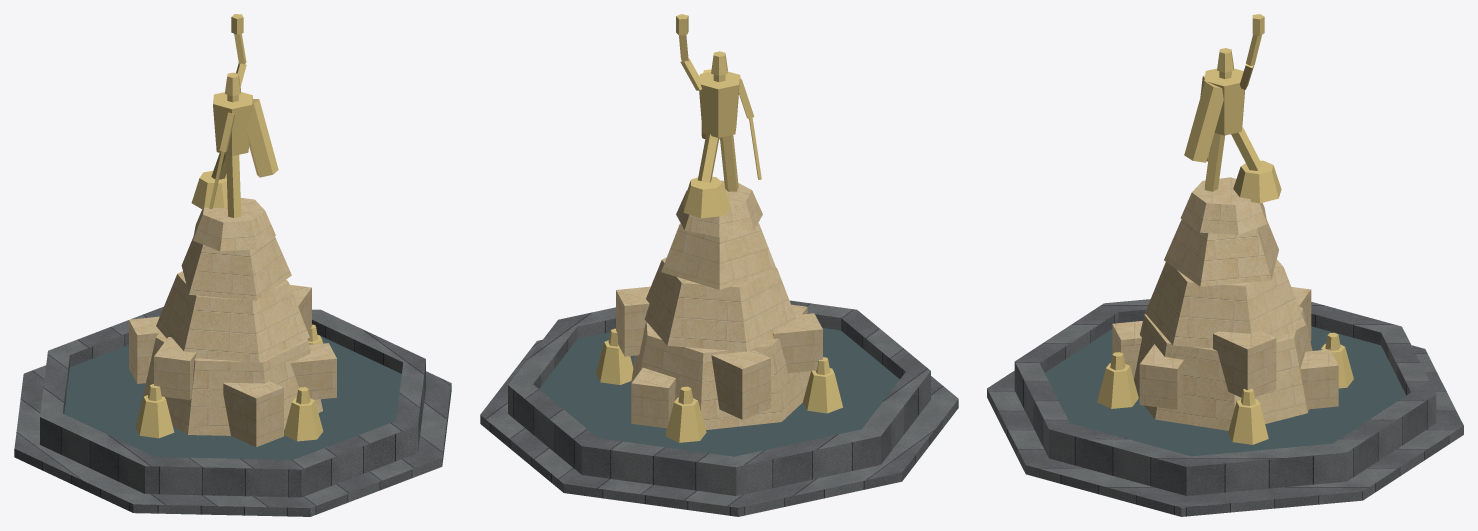
3 views of the same model, side by side, from view 1: azimuth 30°, elevation 25°; view 2: azimuth 150°, elevation 25°; view 3: azimuth 270°, elevation 25° (orthographic). The views are drawn at different scales.
Parts seen in each view (by area): view 1: landmark_900000001; view 2: landmark_900000001; view 3: landmark_900000001.
Boxes of the visible parts, bbox=[...] form: landmark_900000001: bbox=[14, 14, 451, 516]; landmark_900000001: bbox=[480, 14, 958, 516]; landmark_900000001: bbox=[987, 14, 1463, 516].
Bounding box in the file's own units: 8.46 × 8.02 × 8.46.
4 materials, 2 textured.
